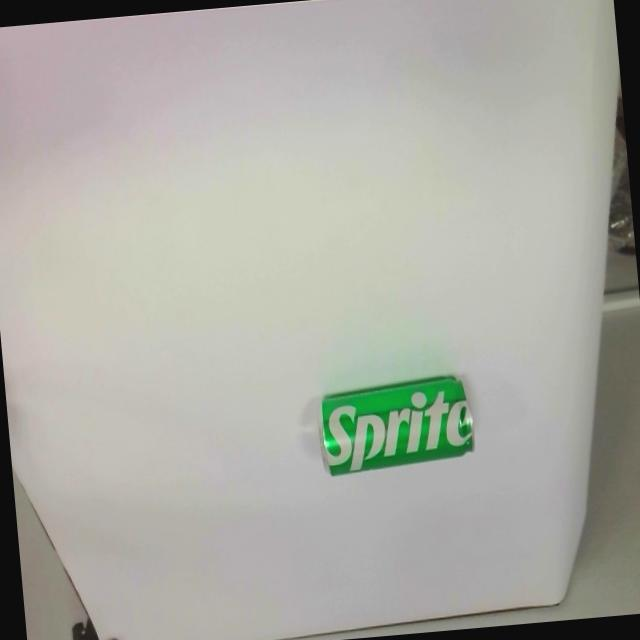debris: (314, 372, 478, 478)
